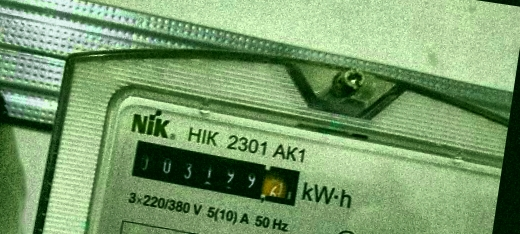0: (136, 149, 150, 172), (158, 153, 173, 174)
1: (202, 159, 215, 179)
3: (180, 159, 194, 179)
6: (267, 181, 279, 198)
9: (243, 168, 257, 189), (223, 163, 236, 185)
screen: (122, 134, 310, 214)
